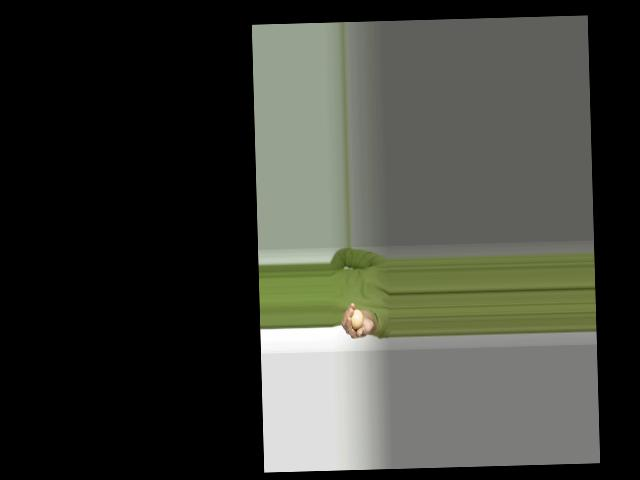egg: (350, 308, 363, 329)
